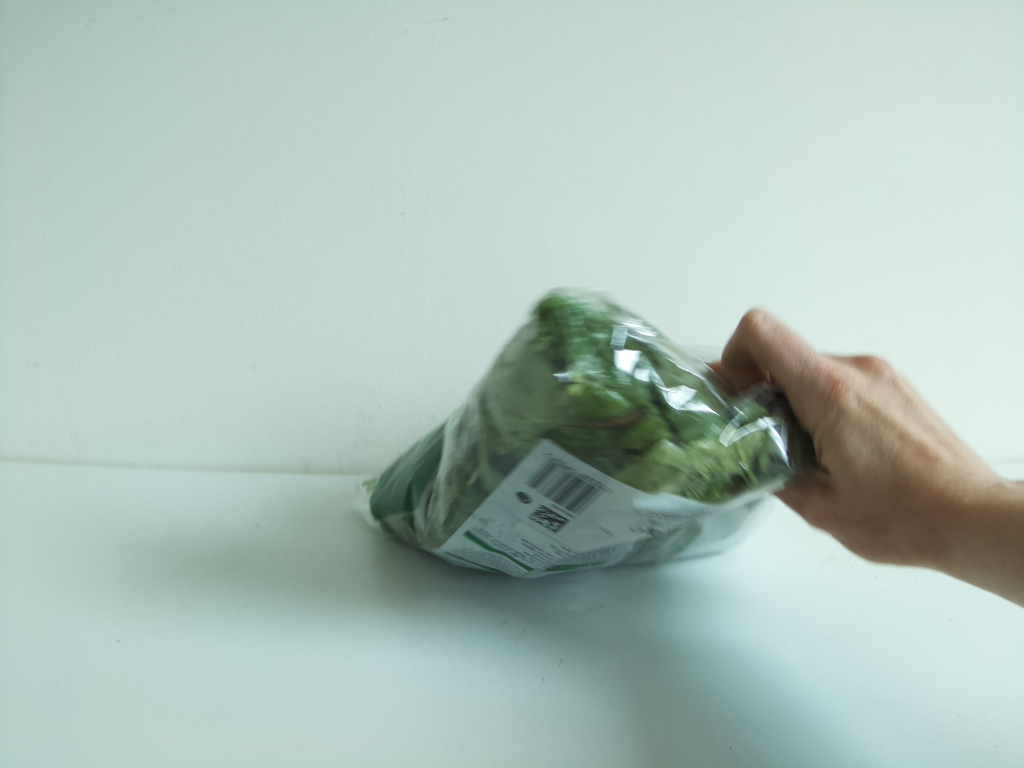salad: (366, 289, 801, 580)
